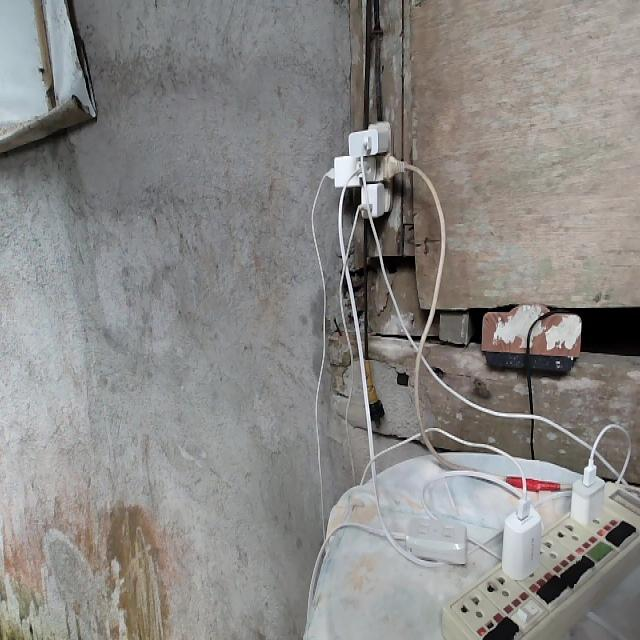-: (330, 116, 403, 223)
